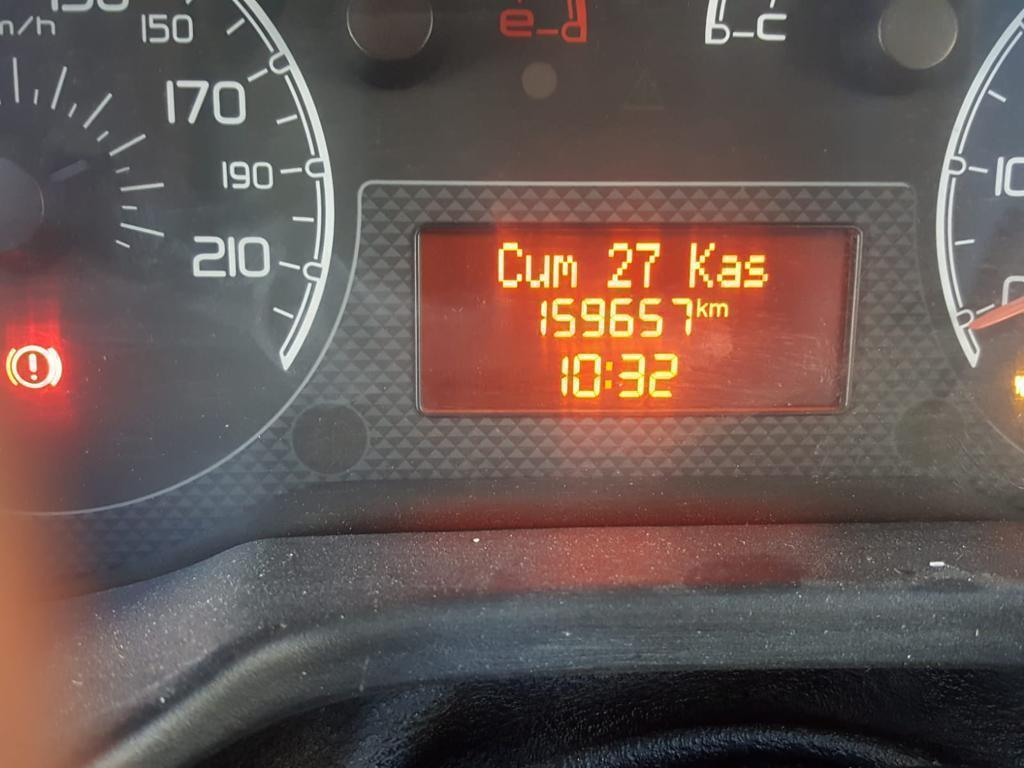0: (571, 352, 602, 398)
1: (559, 355, 569, 397), (538, 299, 547, 337)
2: (647, 352, 679, 399), (606, 242, 632, 289)
3: (617, 353, 645, 398)
5: (637, 296, 663, 338), (551, 297, 576, 337)
6: (608, 297, 634, 337)
7: (635, 242, 660, 288), (671, 297, 693, 336)
9: (579, 297, 606, 338)
X: (496, 241, 523, 289), (688, 241, 714, 289), (715, 254, 742, 289), (742, 254, 769, 289), (551, 254, 578, 289), (525, 253, 550, 289), (708, 302, 729, 317), (603, 360, 613, 390), (695, 297, 708, 318)
odometer: (413, 221, 864, 416)
